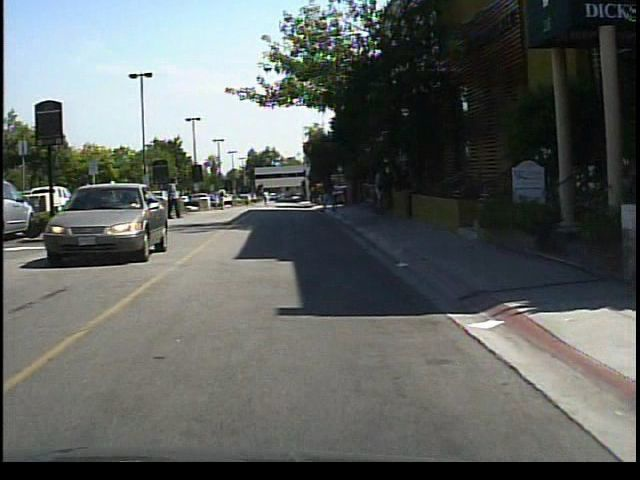person: (373, 161, 396, 224), (106, 177, 129, 229), (320, 170, 343, 219), (164, 172, 184, 221), (79, 182, 96, 227), (217, 187, 231, 214), (261, 190, 270, 210)
